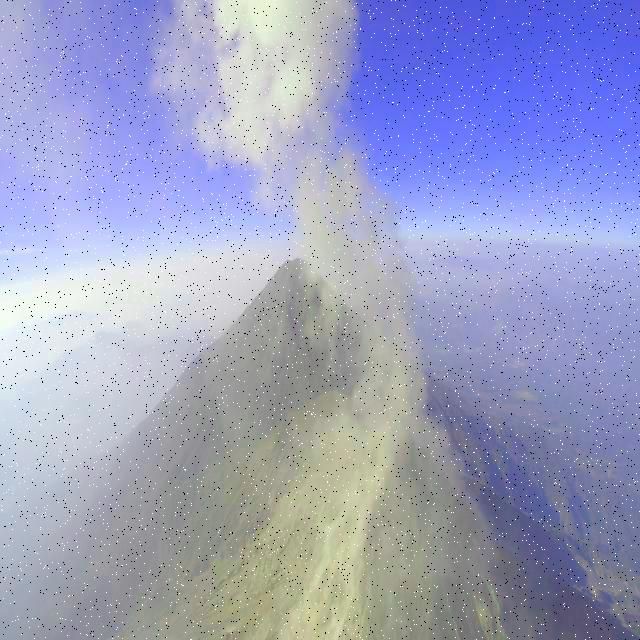Plume: (146, 0, 361, 205), (292, 142, 428, 440)
